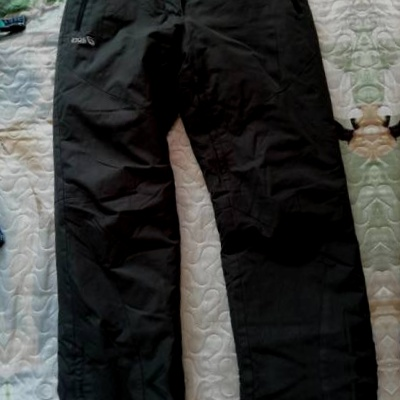Pants: (19, 0, 366, 391), (50, 368, 397, 400), (383, 0, 400, 362)
